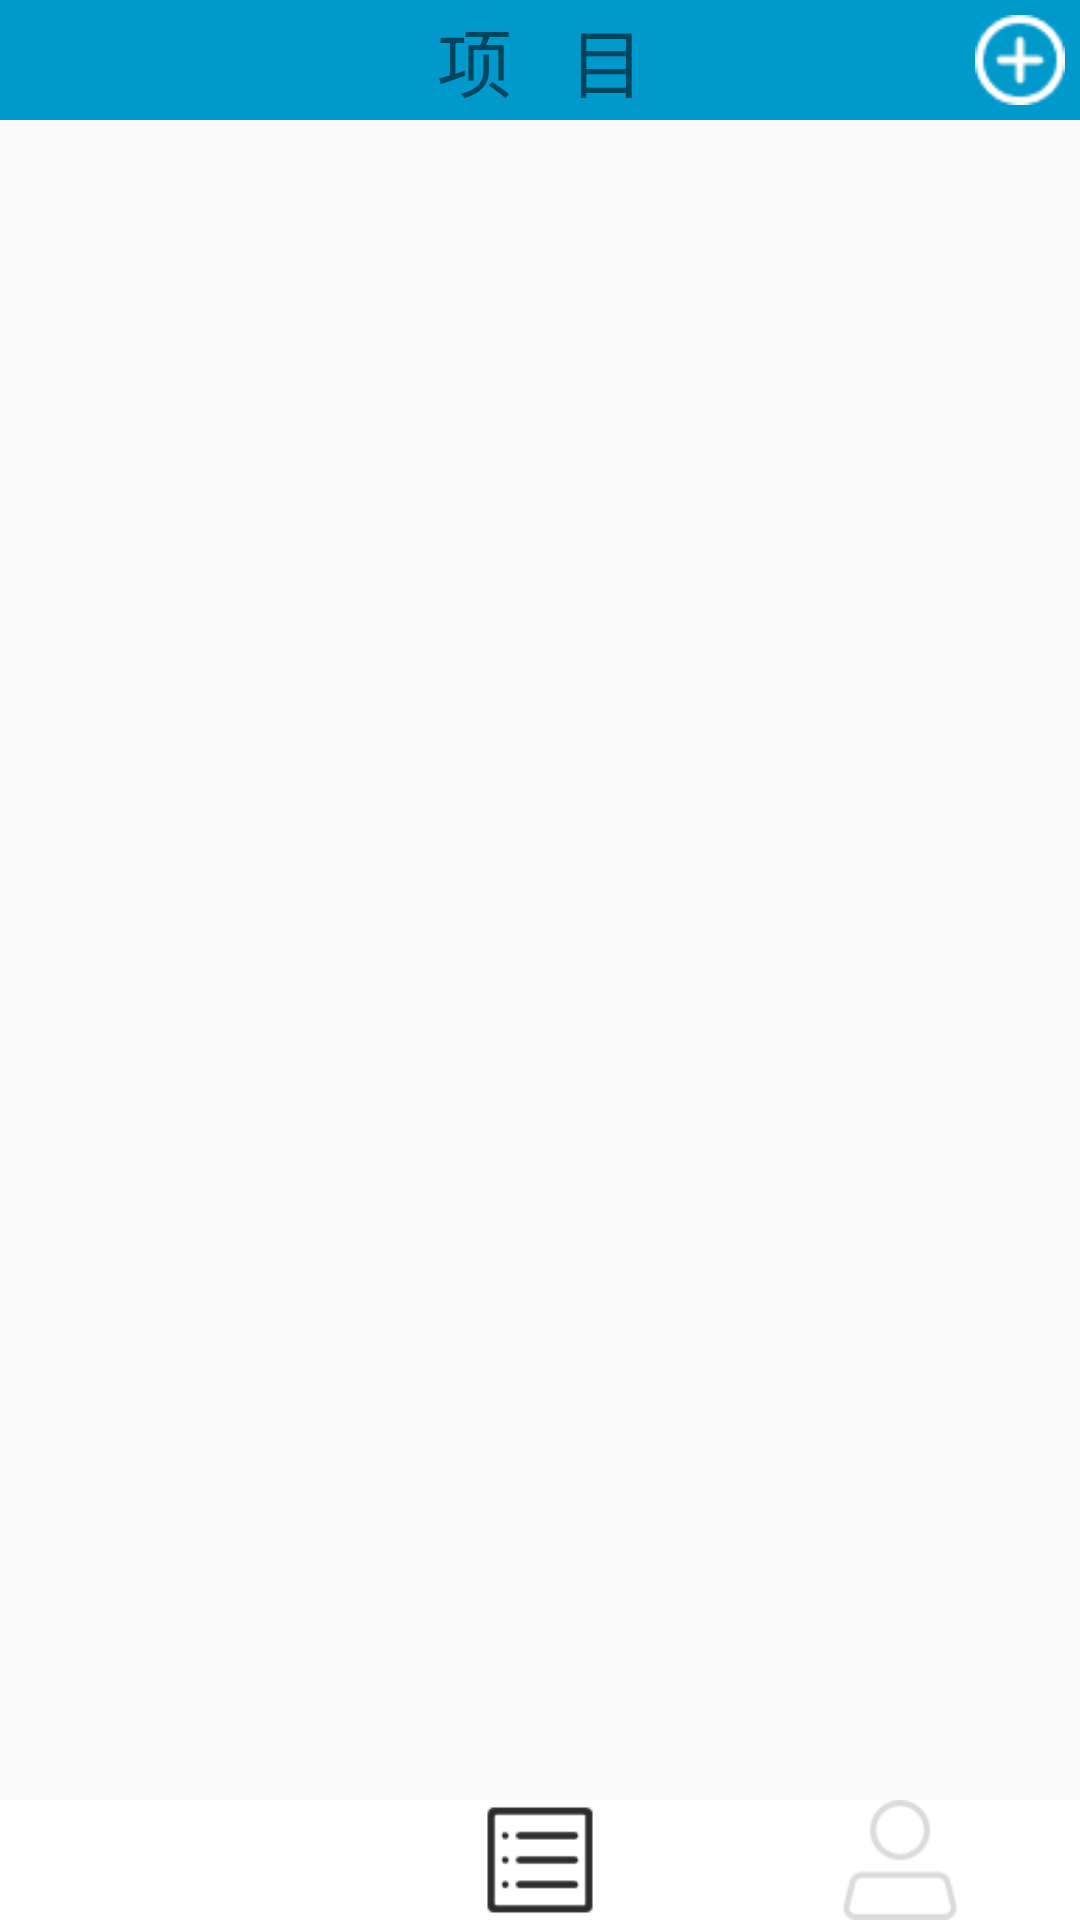

Screen size 1080w x 1920h. Icon name, then its center in pixels as (x=x, y=y):
add: (x=1020, y=60)
